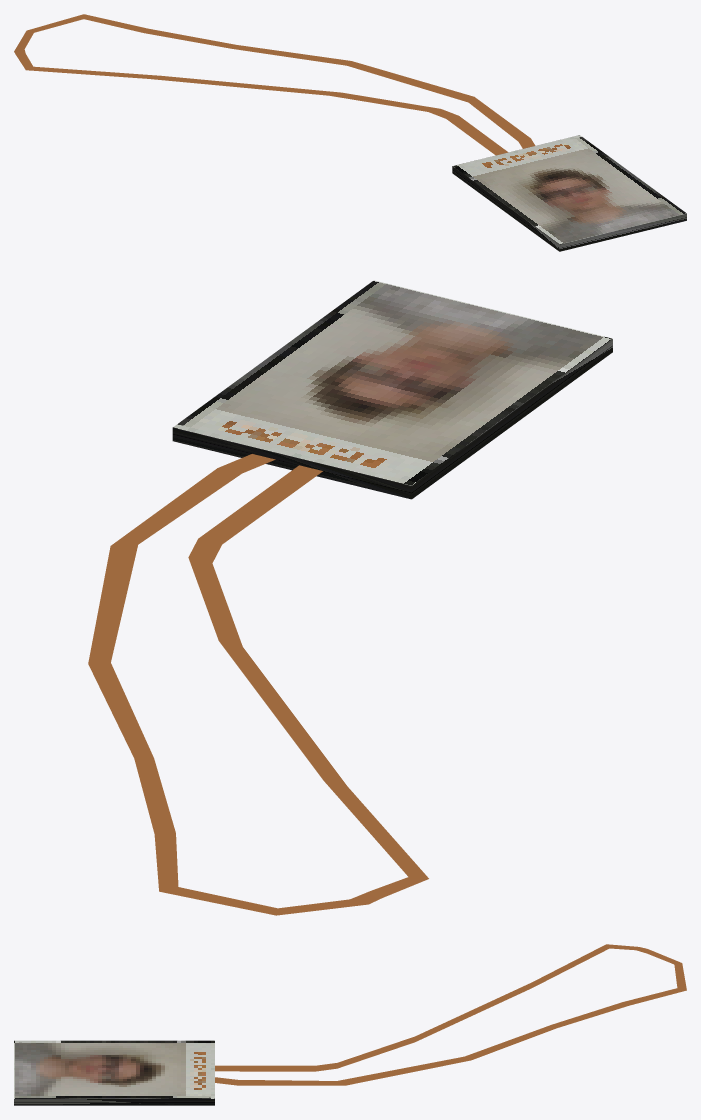
File: keycard.glb
The picture shows the model from 3 angles, top to bottom: view 1: azimuth 30°, elevation 25°; view 2: azimuth 150°, elevation 25°; view 3: azimuth 270°, elevation 25°; orthographic projection. The views are drawn at different scales.
Visible parts, largest first — view 1: keycard; view 2: keycard; view 3: keycard.
Boxes of the visible parts, box(x1,y1,x2,y2) form: keycard: box(14, 14, 686, 251); keycard: box(88, 280, 612, 915); keycard: box(14, 944, 686, 1105).
Size of the model in its own units: 0.189 by 0.0038 by 0.3401.
1 material, 1 textured.
